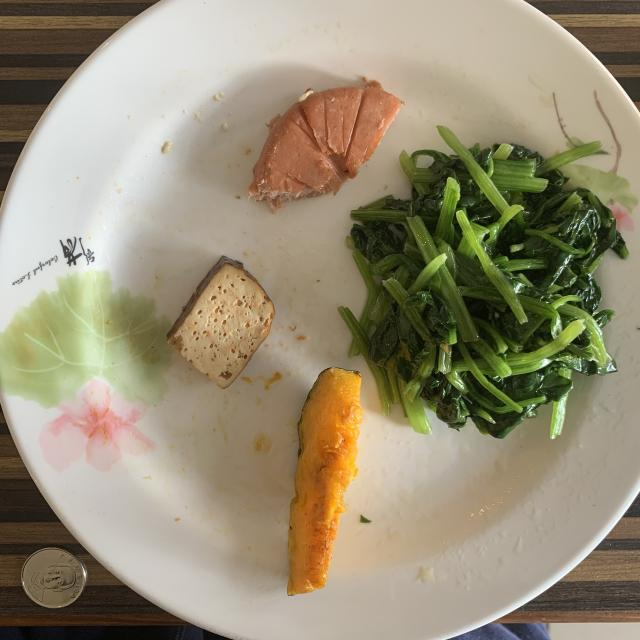Spam: (248, 84, 401, 209)
coin: (21, 548, 88, 609)
firm tofu: (168, 256, 275, 389)
mustard greens: (339, 126, 629, 438)
pumpkin: (288, 368, 362, 595)
